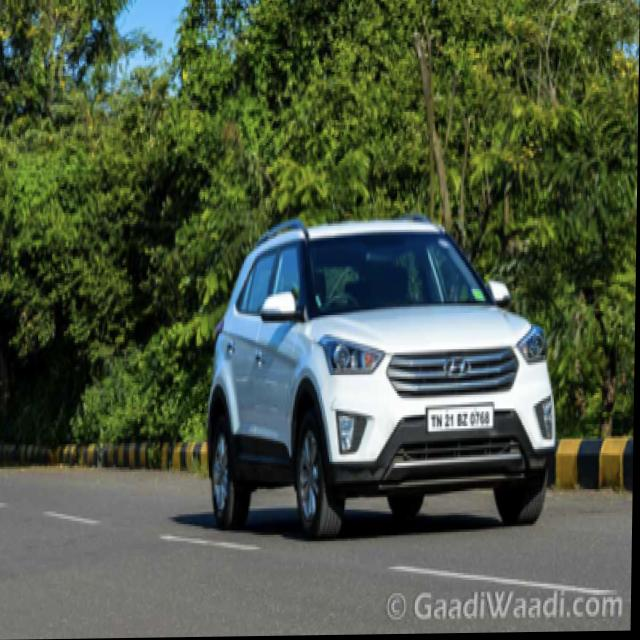licence: (421, 401, 500, 433)
